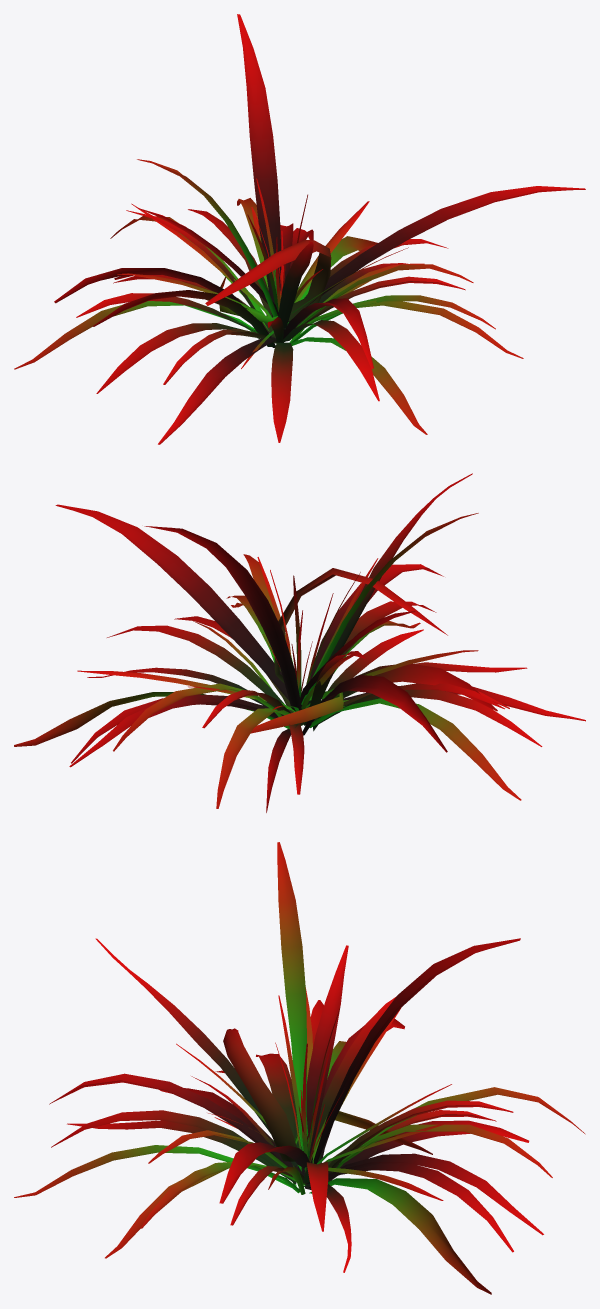
File: Ribbon Plant_LOD1_Var3_rhDrj.fbx
3 views of the same model, one above another, from view 1: azimuth 30°, elevation 25°; view 2: azimuth 150°, elevation 25°; view 3: azimuth 270°, elevation 25° (orthographic). The views are drawn at different scales.
Visible parts, largest first — view 1: _05fd_Var3_LOD1; view 2: _05fd_Var3_LOD1; view 3: _05fd_Var3_LOD1.
Boxes of the visible parts, x1,y1,x2,y2 form: _05fd_Var3_LOD1: (14, 14, 585, 444); _05fd_Var3_LOD1: (14, 473, 585, 812); _05fd_Var3_LOD1: (14, 842, 585, 1294).
Bounding box in the file's own units: 60.05 × 28.58 × 52.3.
